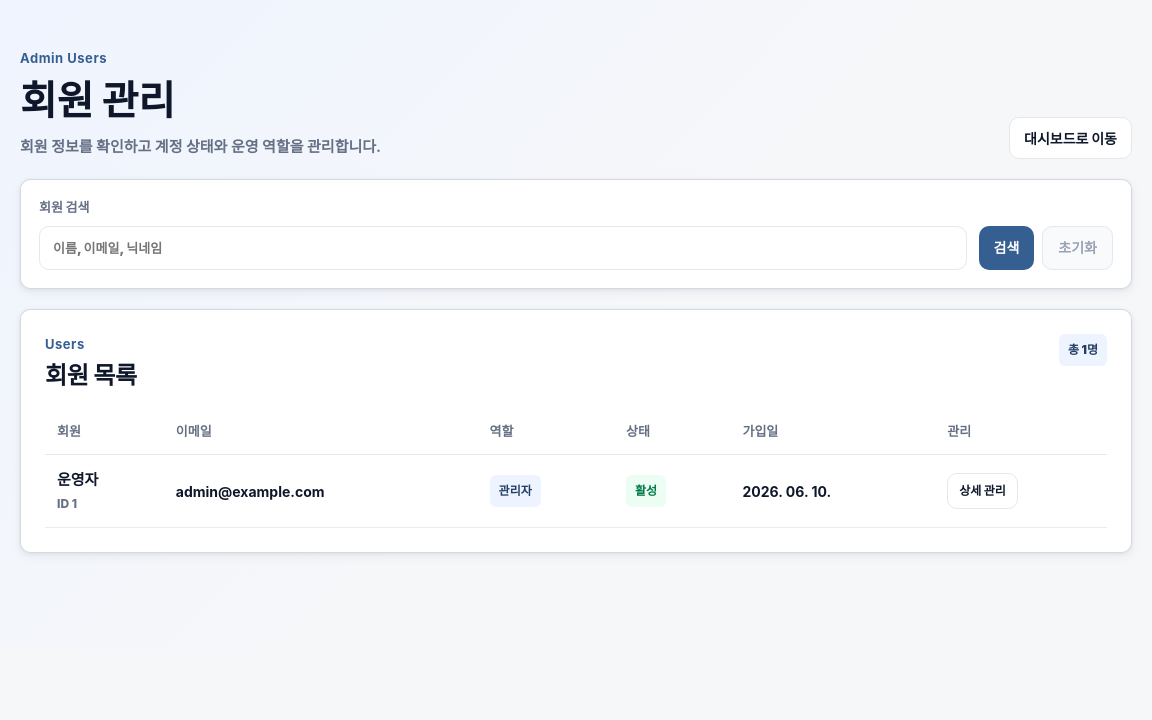
Test case: AdminUsersView › 상세 관리 버튼을 누르면 회원 상세를 조회하고 패널에 표시한다
This screenshot has width=1152, height=720.
Click the button "상세 관리": click(982, 491) x1=947 y1=473 x2=1018 y2=509
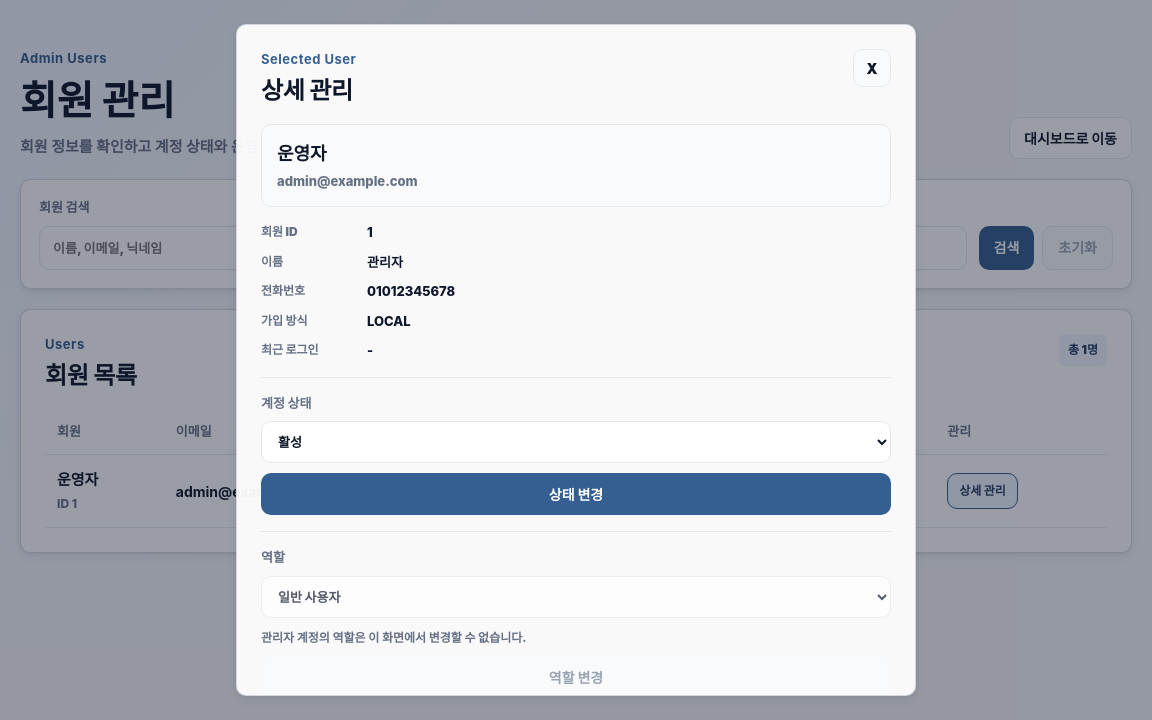
Expected: the text "계정 상태" is shown, x1=20 y1=137 x2=381 y2=156
Now the text "최근 로그인" is shown, box x1=261 y1=342 x2=319 y2=357
